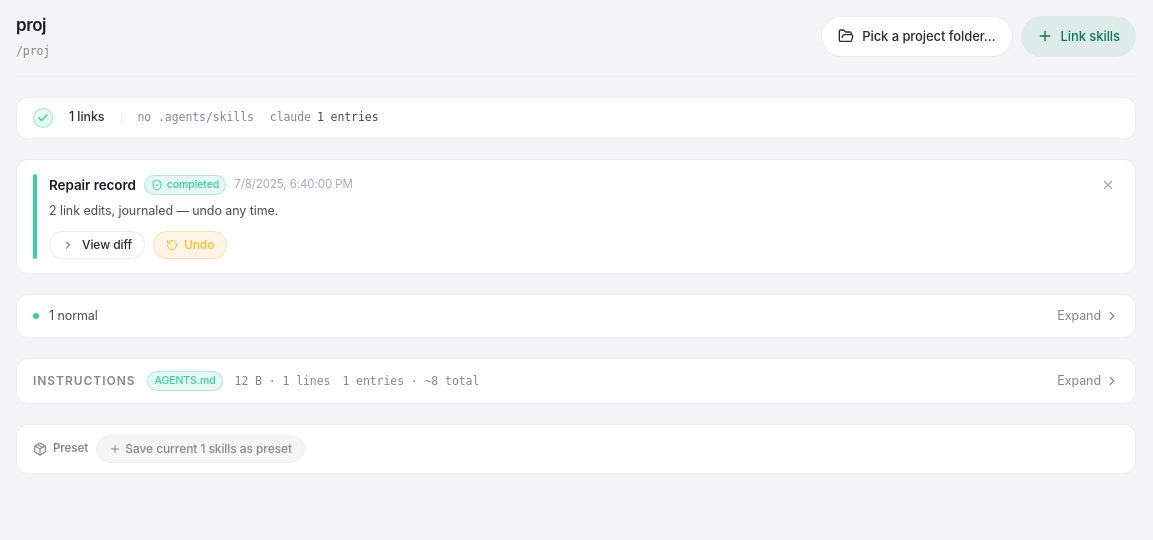
ChainProjects › renders the repair record card in place of the green status card
Expected: the element with test id "repair-record" shows "Repair record", [49,177,136,193]
Expected: the element with test id "repair-record" shows "completed", [167,178,219,191]
Note: The diff is the journaled edits: link path plus before → after targets.
What coordinates should you click on to do the following:
click the button with test id "record-toggle-diff"
I would click on:
 (97, 244)
Its box is [49,230,145,258].
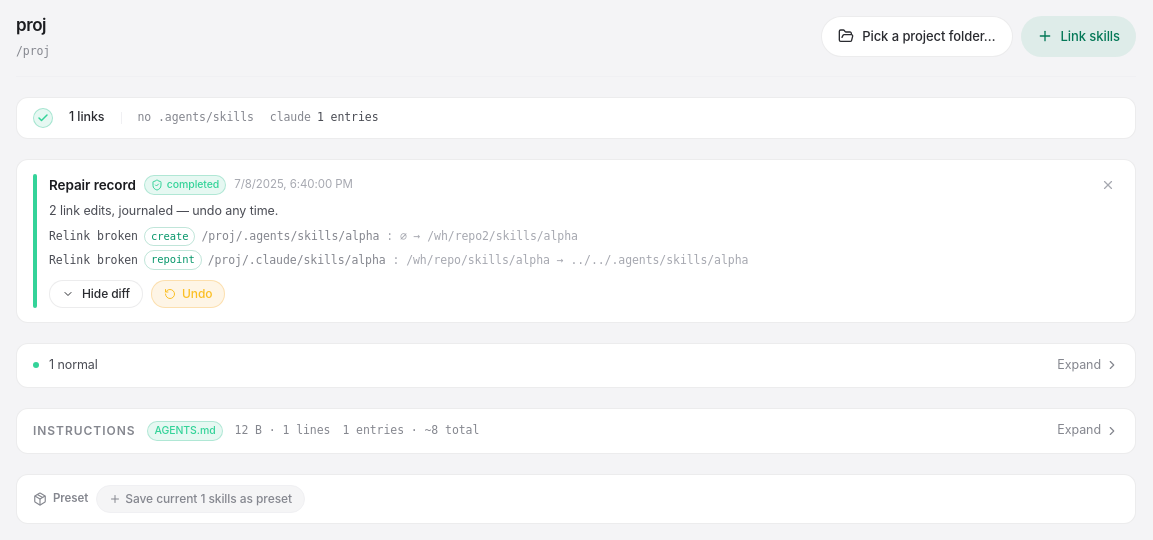
Expected: the list with test id "record-diff" shows "/proj/.agents/skills/alpha", [201,229,379,243]
Expected: the list with test id "record-diff" shows "/wh/repo2/skills/alpha", [427,229,578,243]
Expected: the list with test id "record-diff" shows "../../.agents/skills/alpha", [570,252,748,266]
